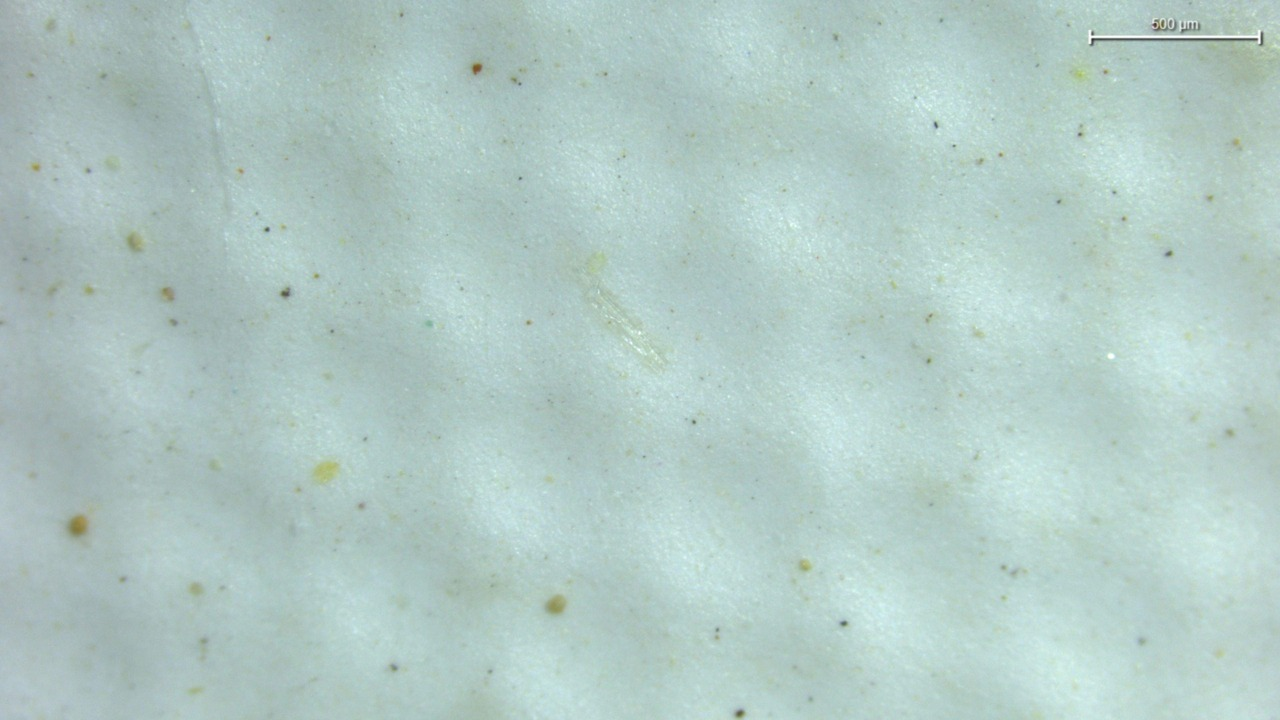microplastic_fragment: (583, 252, 664, 368)
